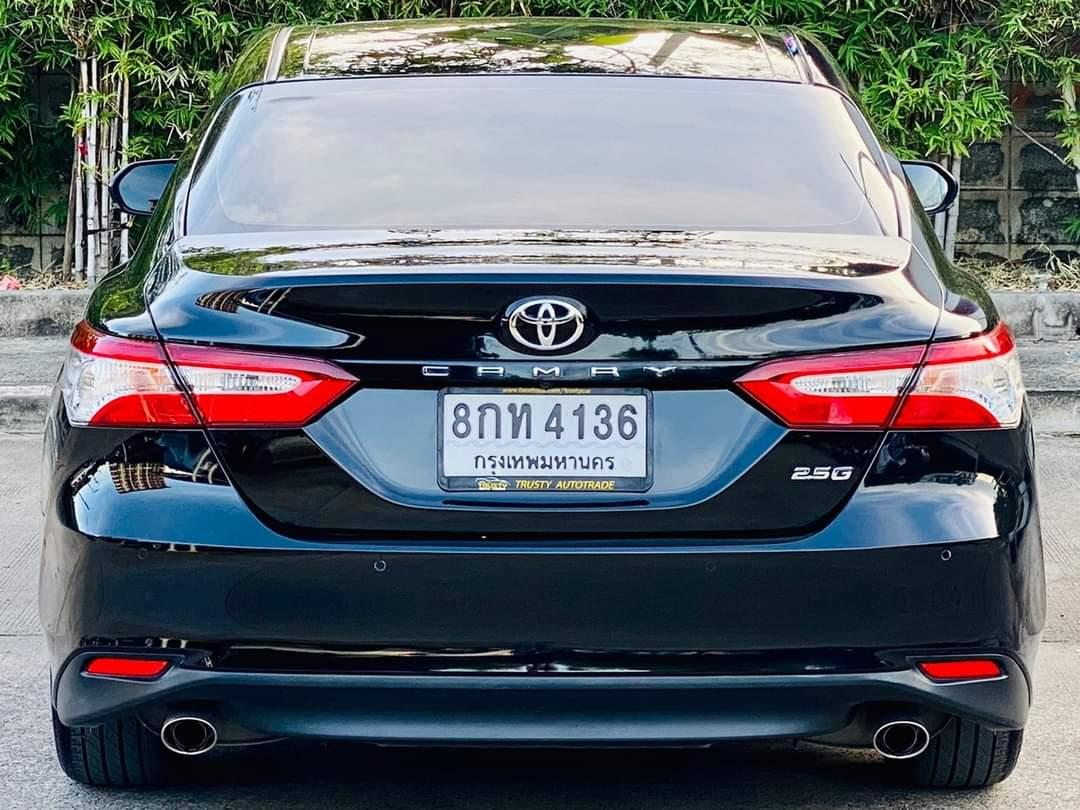license-plate: (436, 387, 654, 497)
